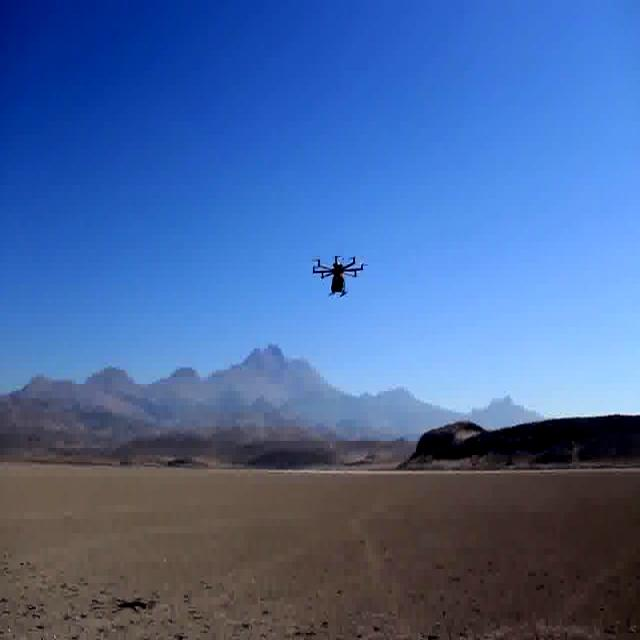drone: (310, 253, 370, 304)
